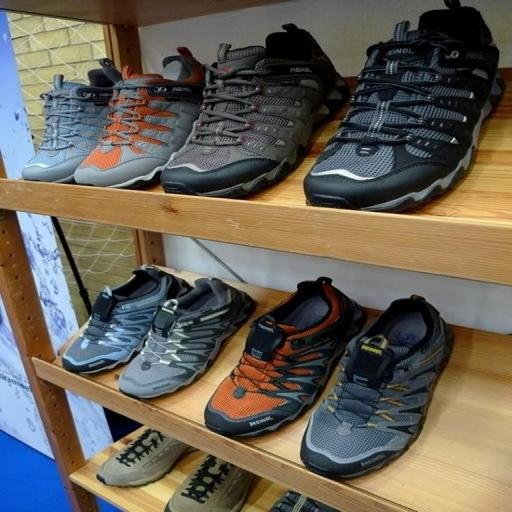shoe: (304, 1, 504, 212), (161, 24, 349, 197), (300, 296, 453, 478), (204, 277, 366, 437), (74, 47, 204, 188), (118, 278, 253, 398), (62, 265, 191, 373), (22, 58, 121, 182), (96, 428, 195, 486), (165, 454, 253, 512), (270, 490, 339, 512)
